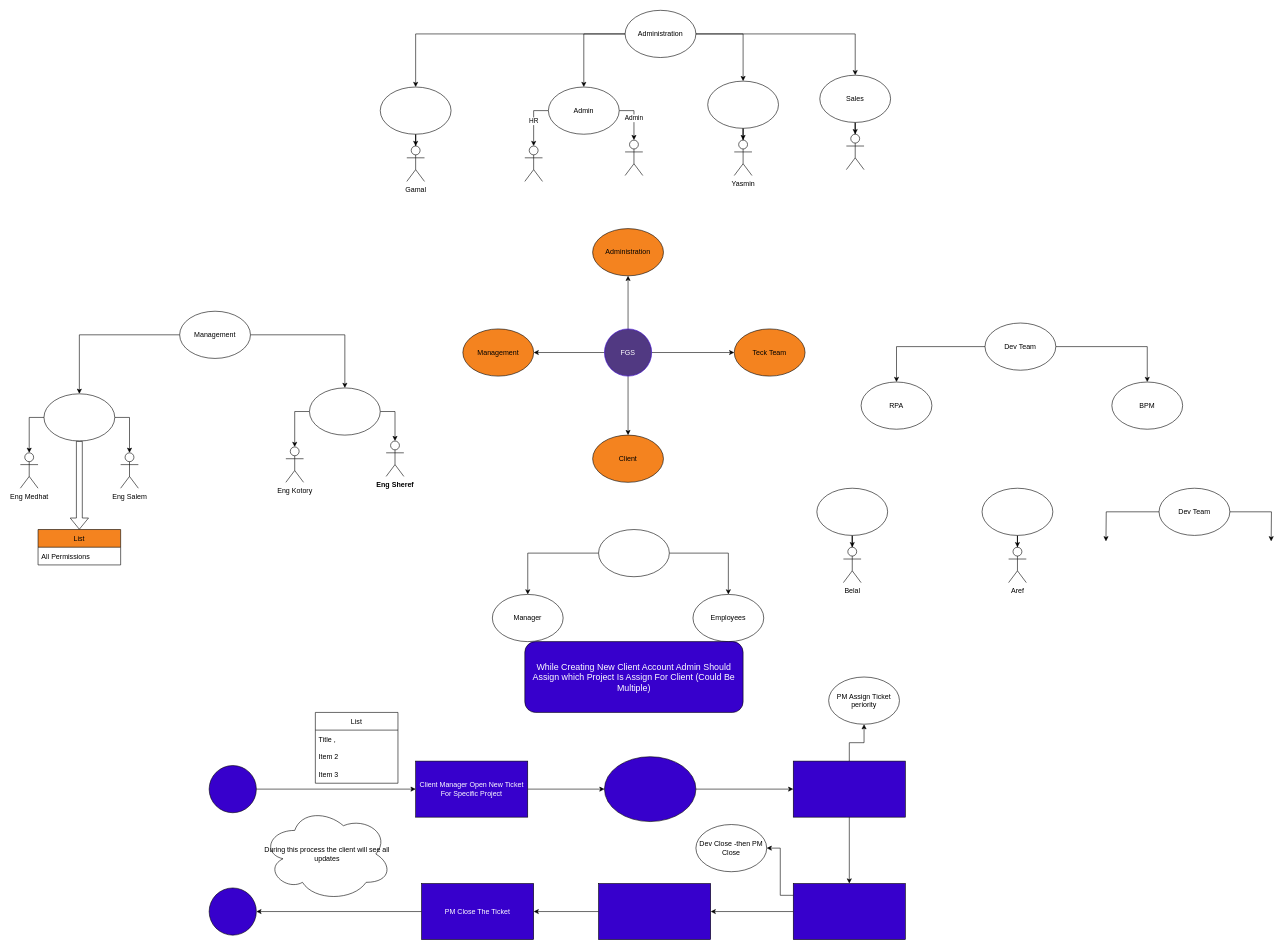
Image size: 1287x950. Some labels were removed from this diagram. The shapes that lost their labels are listed below. From the top down, each one's box as (x1, y1, x2, y2) in pixels, then its label:
(380, 86, 451, 134): Finance
(707, 81, 779, 128): Markiting
(524, 145, 543, 181): Eman
(625, 140, 643, 176): Ahmed Ramadan
(846, 134, 864, 170): Abd Allah Saleh
(43, 393, 115, 441): Super User
(309, 387, 380, 435): Project Manager
(816, 488, 888, 535): Senior
(981, 488, 1053, 535): Teck-lead
(598, 529, 669, 577): Company
(209, 765, 256, 813): Start
(604, 756, 696, 822): Notification For Project Manager And Manager
(793, 761, 905, 817): Project Manager Assign Dev For Support
(209, 887, 256, 935): END
(598, 883, 711, 940): After Support Return To PM
(793, 883, 905, 940): Dev Can See Client Ticket And Comment On It And Update It
